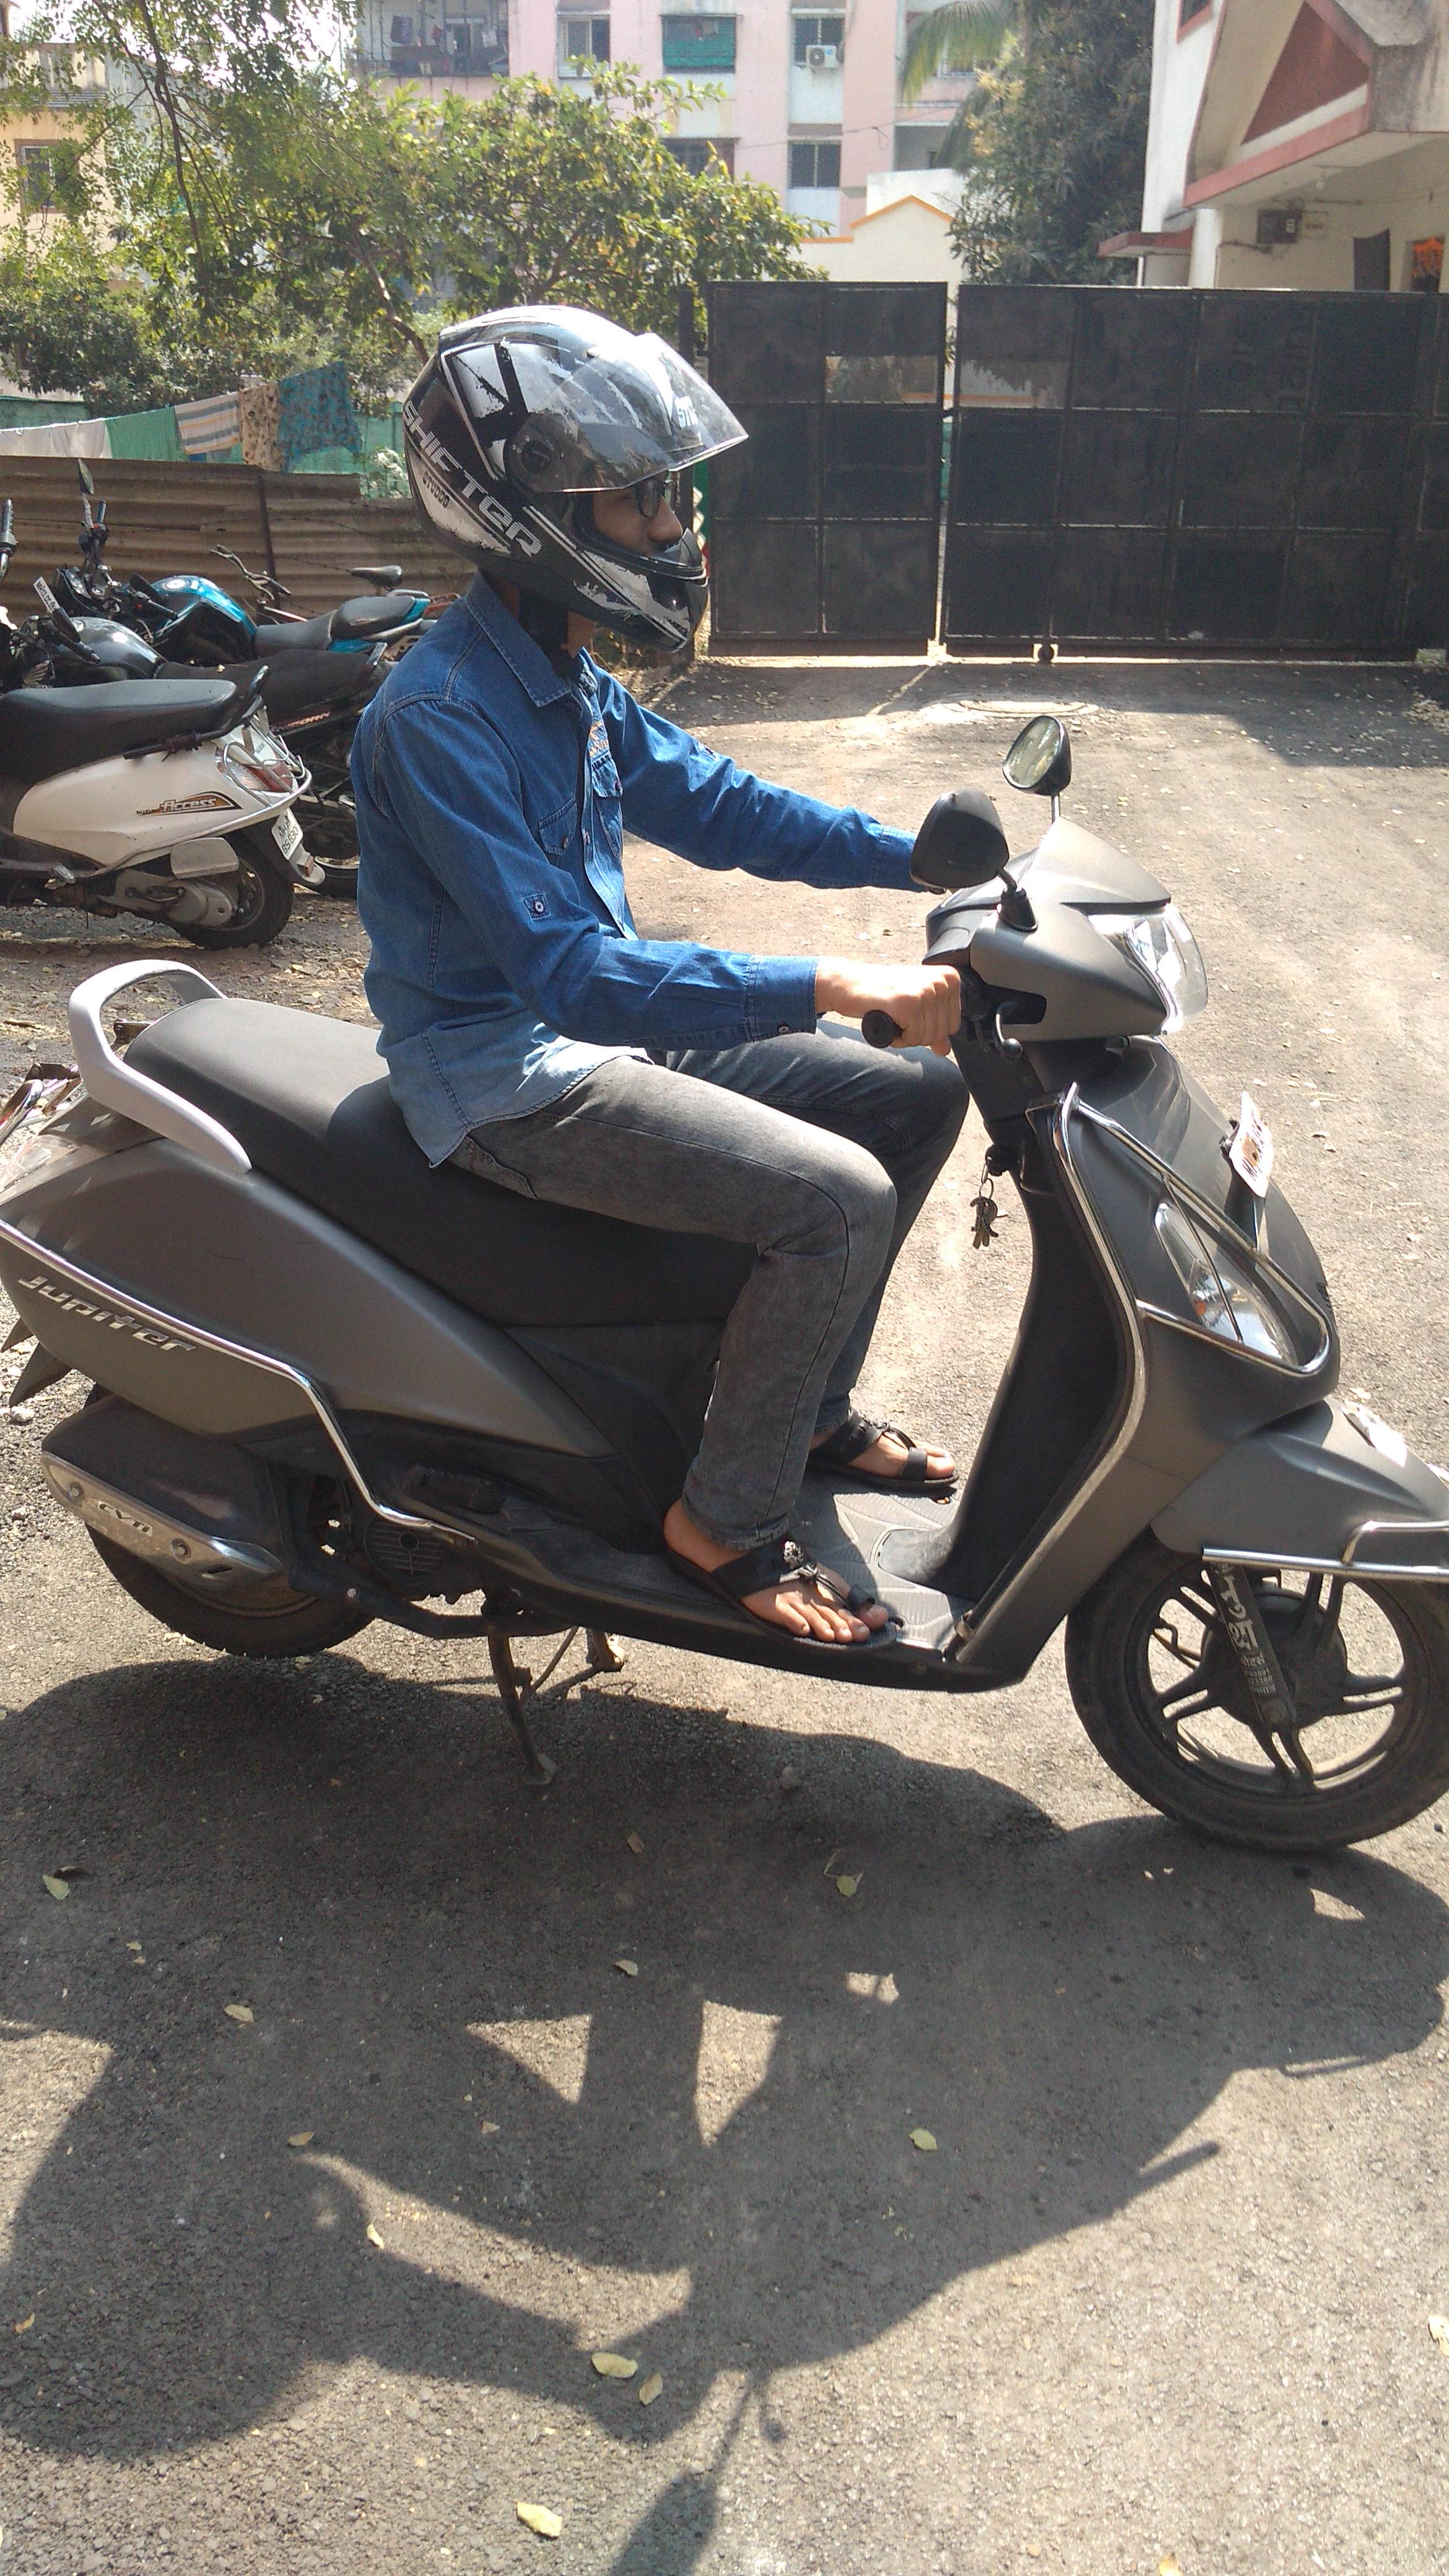helmet: (188, 272, 1030, 1325)
